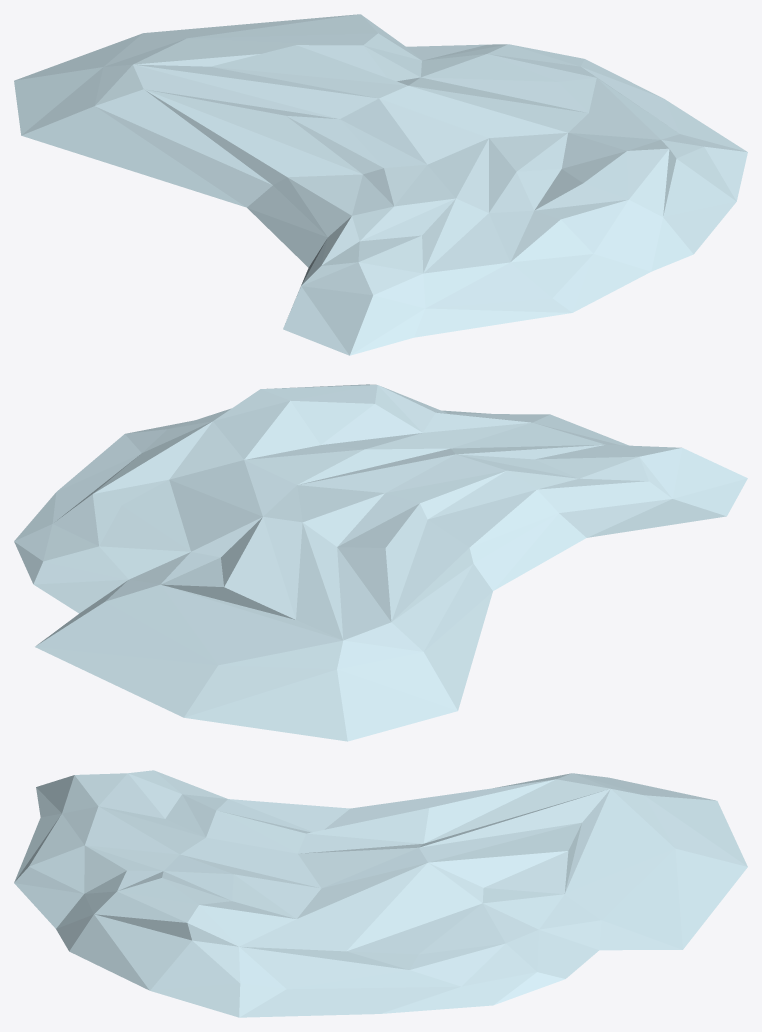
File: SM_Env_GrassPatch_02_Snow.fbx
The picture shows the model from 3 angles, top to bottom: view 1: azimuth 30°, elevation 25°; view 2: azimuth 150°, elevation 25°; view 3: azimuth 270°, elevation 25°; orthographic projection. The views are drawn at different scales.
Visible parts, largest first — view 1: SM_Env_GrassPatch_02_Snow; view 2: SM_Env_GrassPatch_02_Snow; view 3: SM_Env_GrassPatch_02_Snow.
Part boxes in pixels (x1=…): SM_Env_GrassPatch_02_Snow: x1=14, y1=14, x2=747, y2=355; SM_Env_GrassPatch_02_Snow: x1=14, y1=384, x2=747, y2=741; SM_Env_GrassPatch_02_Snow: x1=14, y1=770, x2=747, y2=1017.
Size of the model in its own units: 207 by 19.27 by 266.
